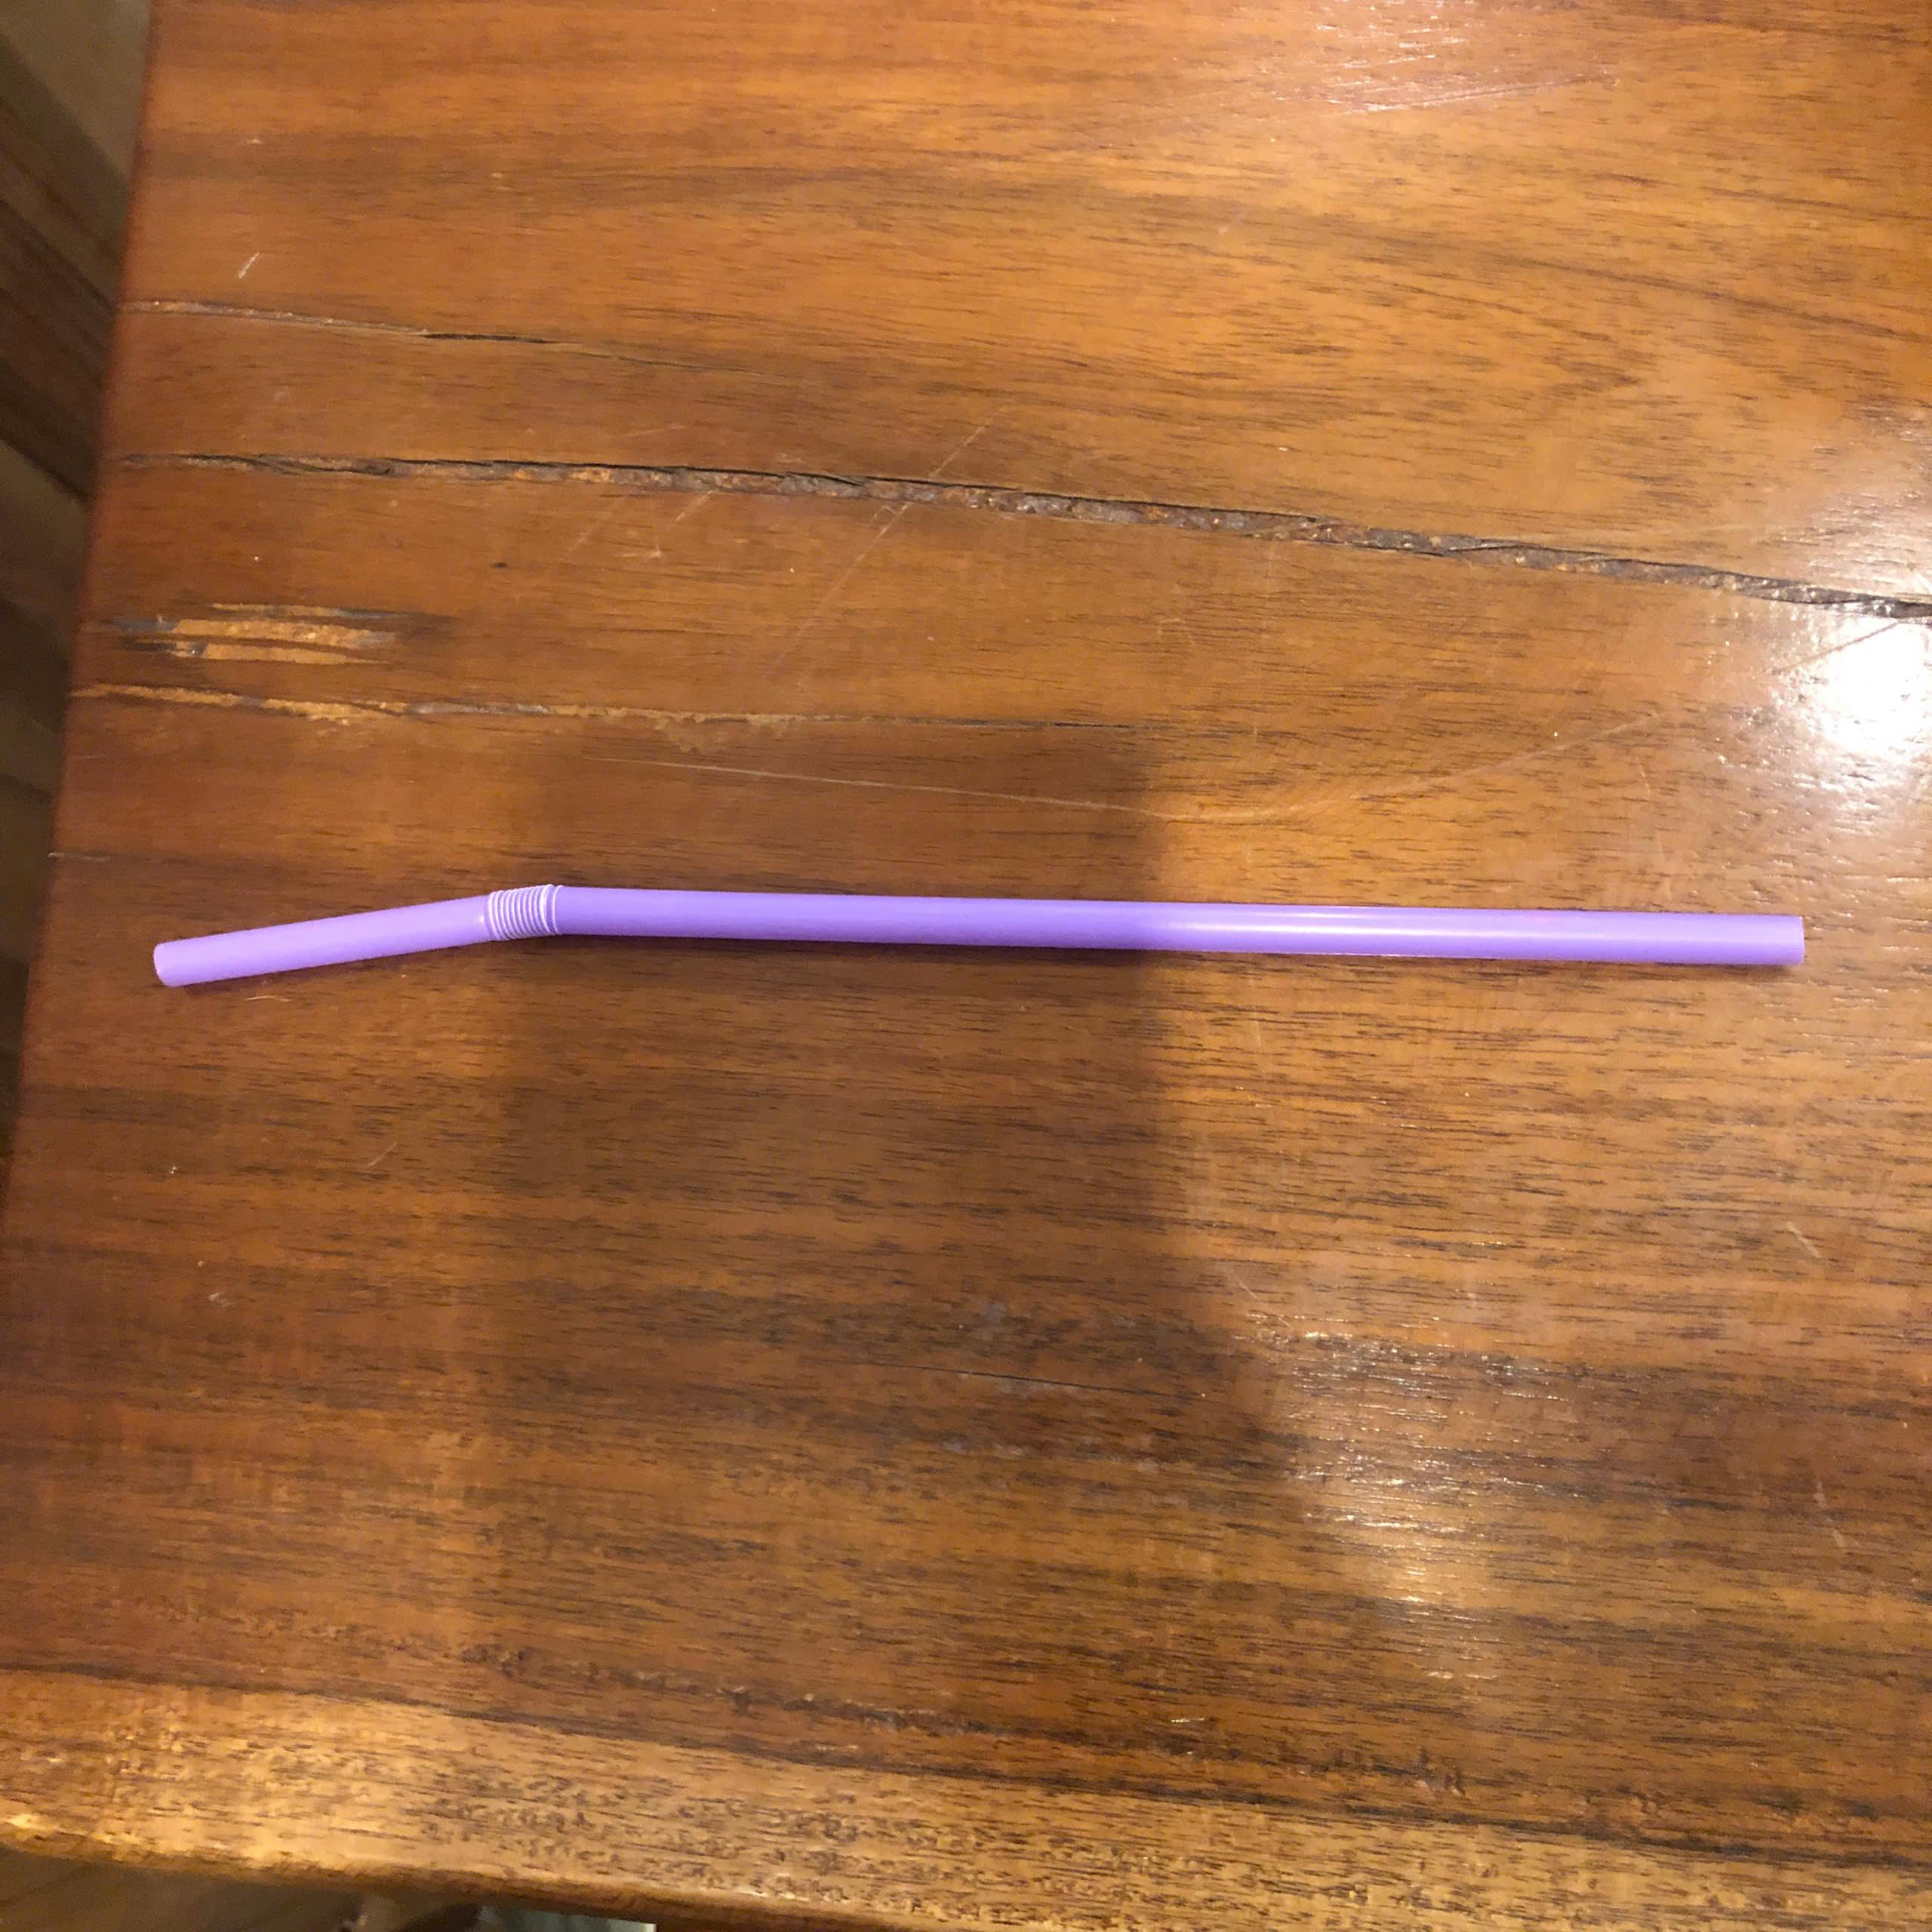Vo co: (147, 872, 1808, 991)
